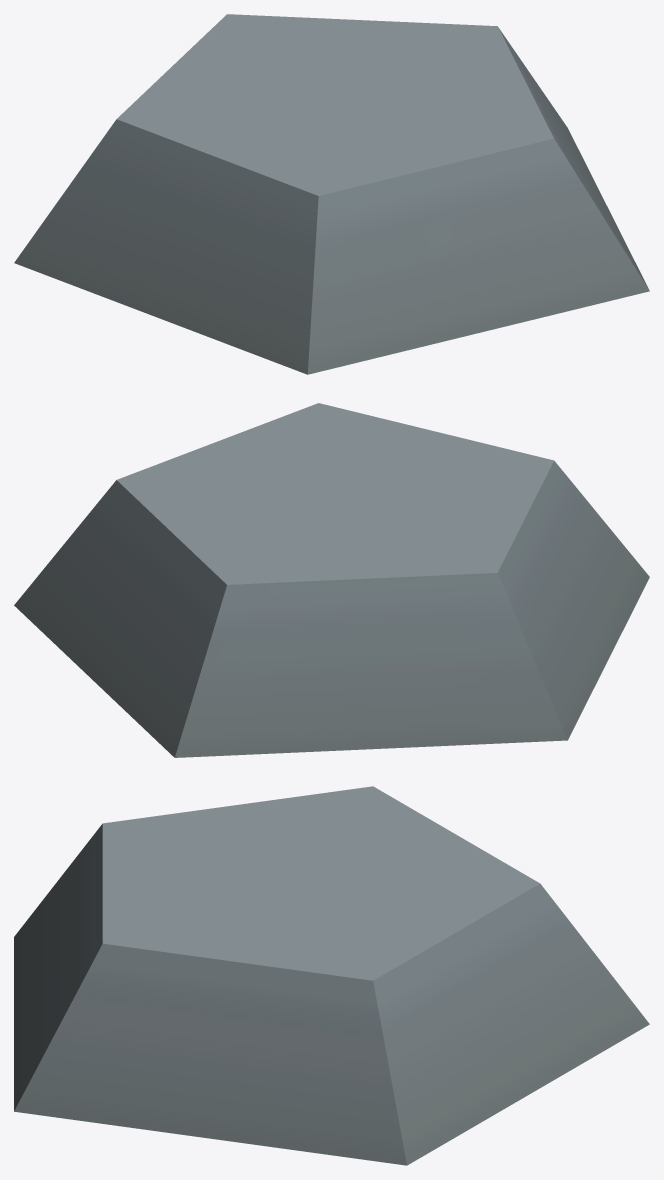
File: rock.glb
The picture shows the model from 3 angles, top to bottom: view 1: azimuth 30°, elevation 25°; view 2: azimuth 150°, elevation 25°; view 3: azimuth 270°, elevation 25°; orthographic projection. The views are drawn at different scales.
Parts seen in each view (by area): view 1: rock_single_A; view 2: rock_single_A; view 3: rock_single_A.
Part boxes in pixels (x1,y1,x2,y2): rock_single_A: [14, 14, 649, 374]; rock_single_A: [14, 403, 649, 757]; rock_single_A: [14, 786, 649, 1165].
Bounding box in the file's own units: 0.2982 × 0.0693 × 0.2836.
Materials: 1 (1 with a texture image).
